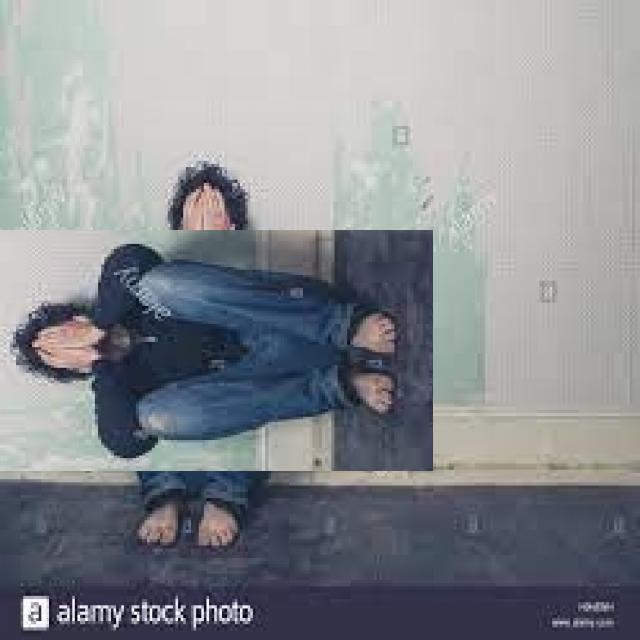NotFall: (0, 239, 467, 471)
